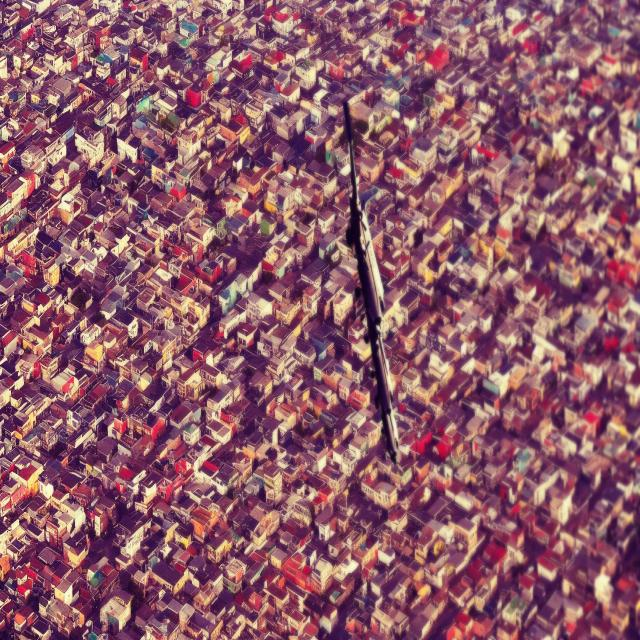airplane: (342, 97, 399, 459)
